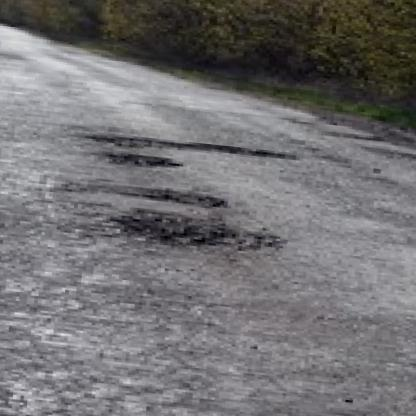pothole: (107, 209, 288, 262), (88, 129, 304, 165), (86, 177, 232, 213), (101, 149, 184, 171)
